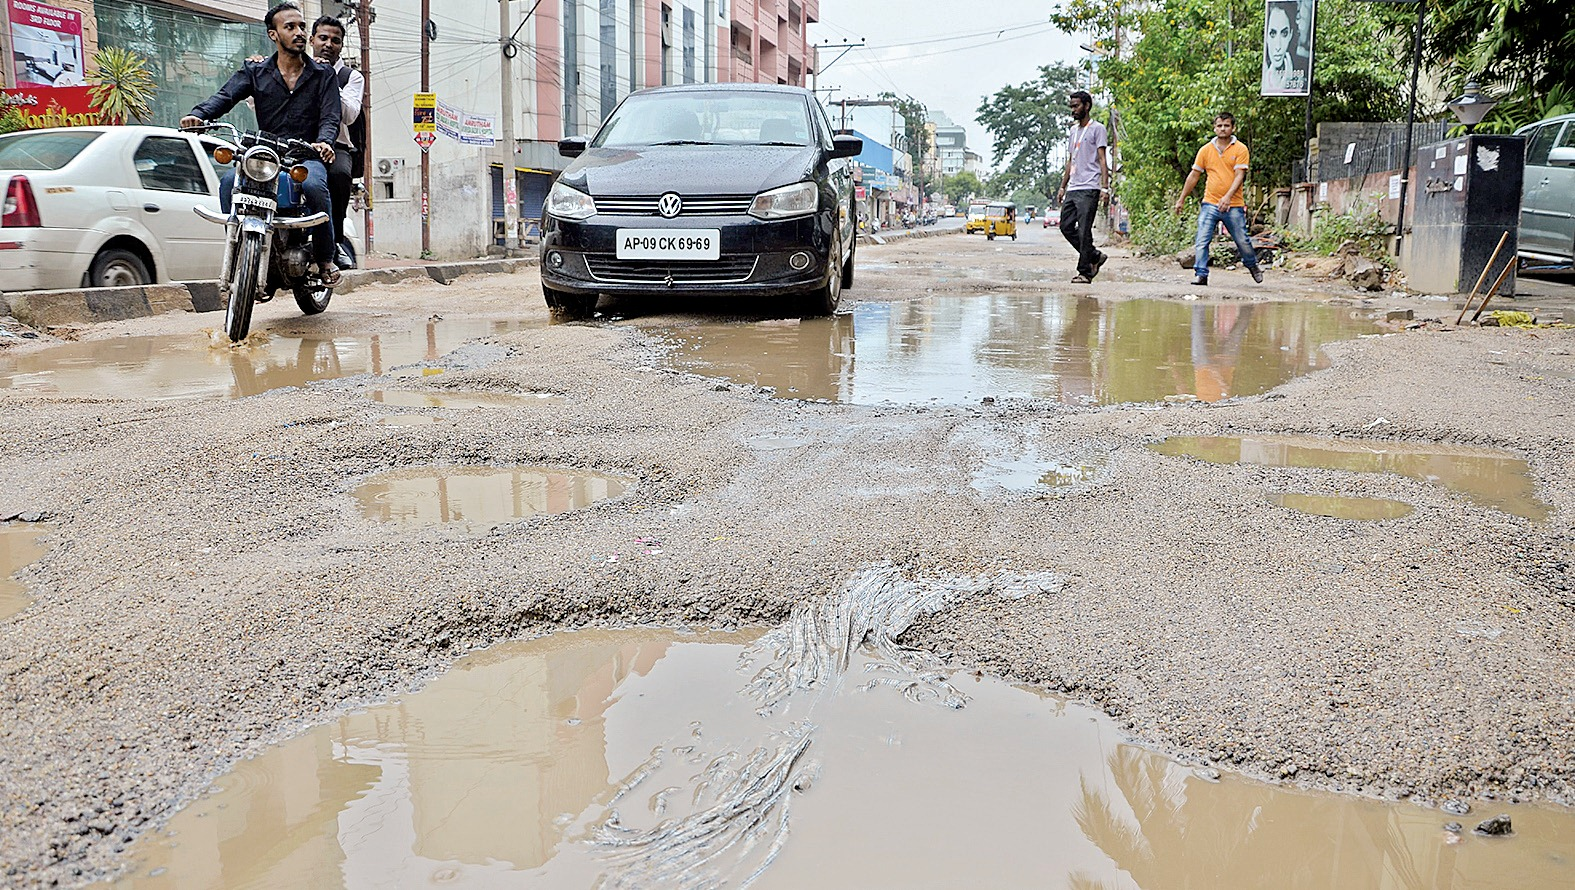pothole: (56, 586, 1558, 887), (1142, 433, 1558, 586), (350, 408, 707, 548)
